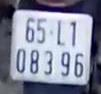0: (14, 47, 27, 75)
1: (69, 19, 78, 48)
3: (44, 47, 54, 76)
5: (36, 14, 49, 46)
6: (72, 50, 87, 80), (25, 16, 36, 45)
8: (29, 47, 41, 75)
9: (58, 50, 71, 76)
L: (55, 17, 68, 47)
